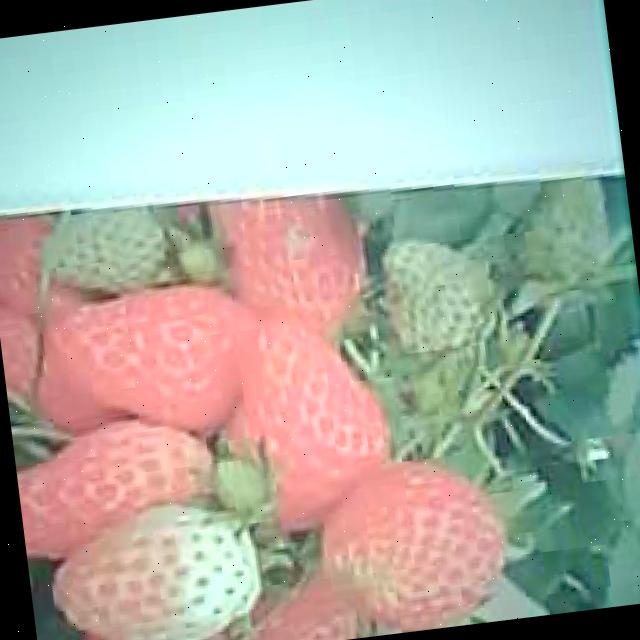strawberry: (313, 452, 514, 640), (42, 492, 270, 640), (235, 309, 394, 516), (62, 276, 246, 442), (378, 226, 504, 352), (41, 198, 176, 296)
